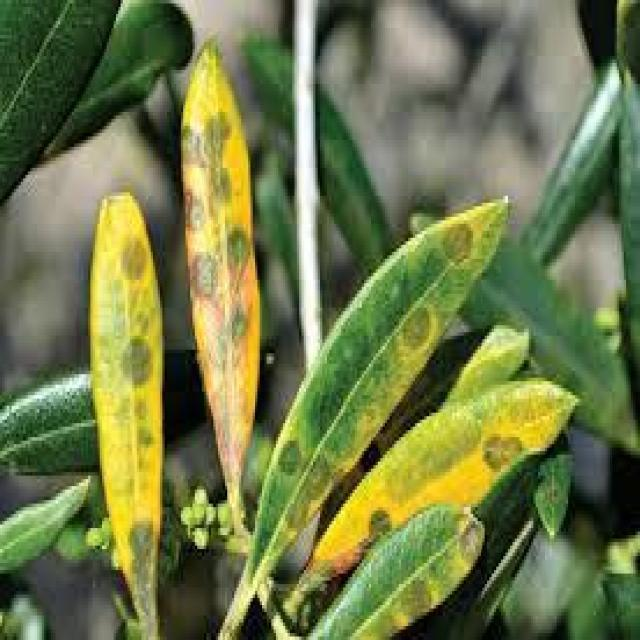OlivePeacockSpot: (258, 224, 490, 549), (296, 378, 578, 588), (183, 42, 260, 490), (90, 193, 158, 636), (274, 508, 480, 636)
